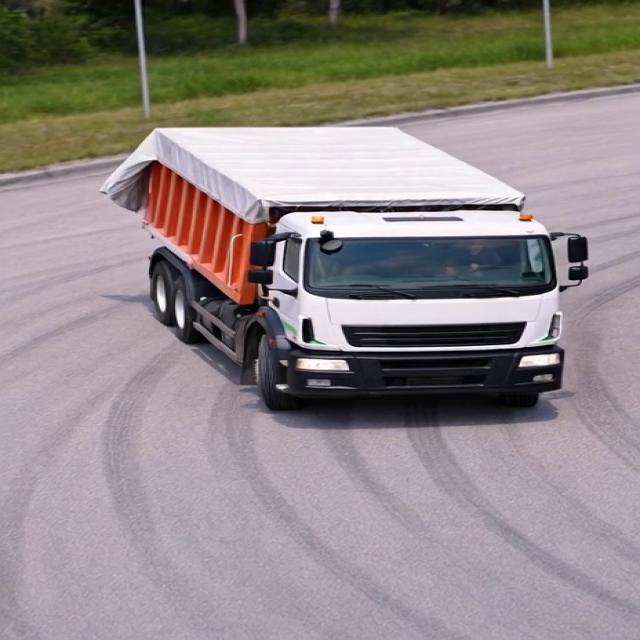trailer: (100, 128, 534, 215)
truck: (67, 121, 590, 394)
